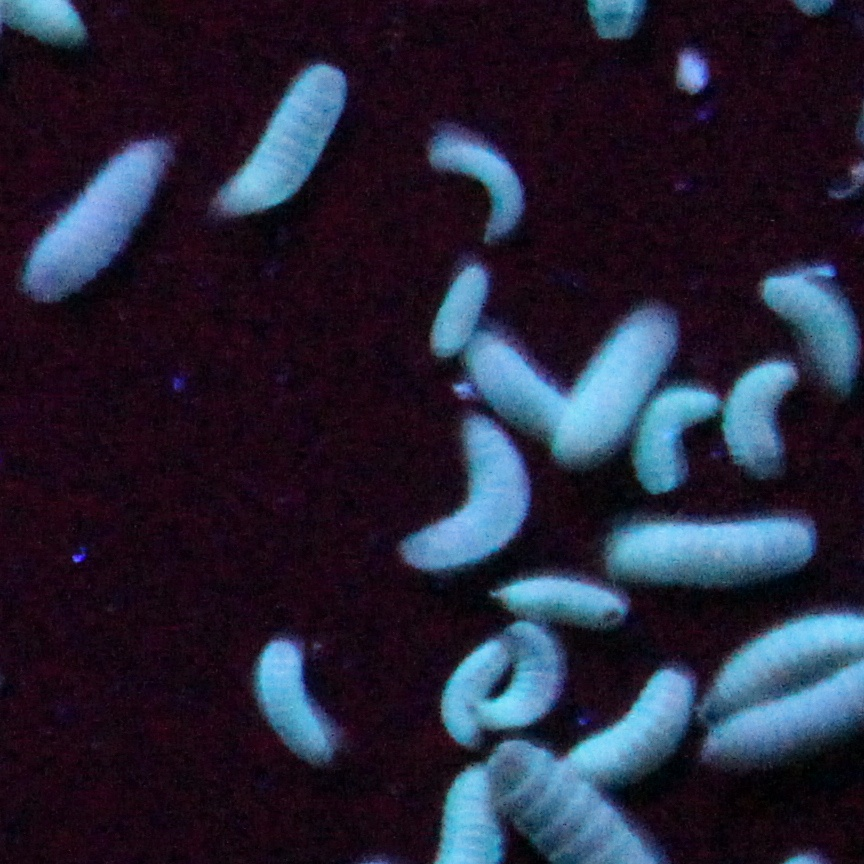larve: (20, 141, 170, 294), (401, 415, 530, 574), (217, 59, 342, 215), (560, 308, 675, 457), (697, 603, 860, 708), (702, 681, 859, 777), (606, 523, 808, 578), (581, 669, 685, 774), (761, 271, 857, 384), (258, 639, 339, 770), (432, 130, 522, 238), (475, 328, 558, 430), (488, 630, 561, 736), (728, 365, 792, 469), (645, 391, 708, 489), (501, 578, 620, 628), (431, 259, 491, 346), (446, 646, 500, 741)
